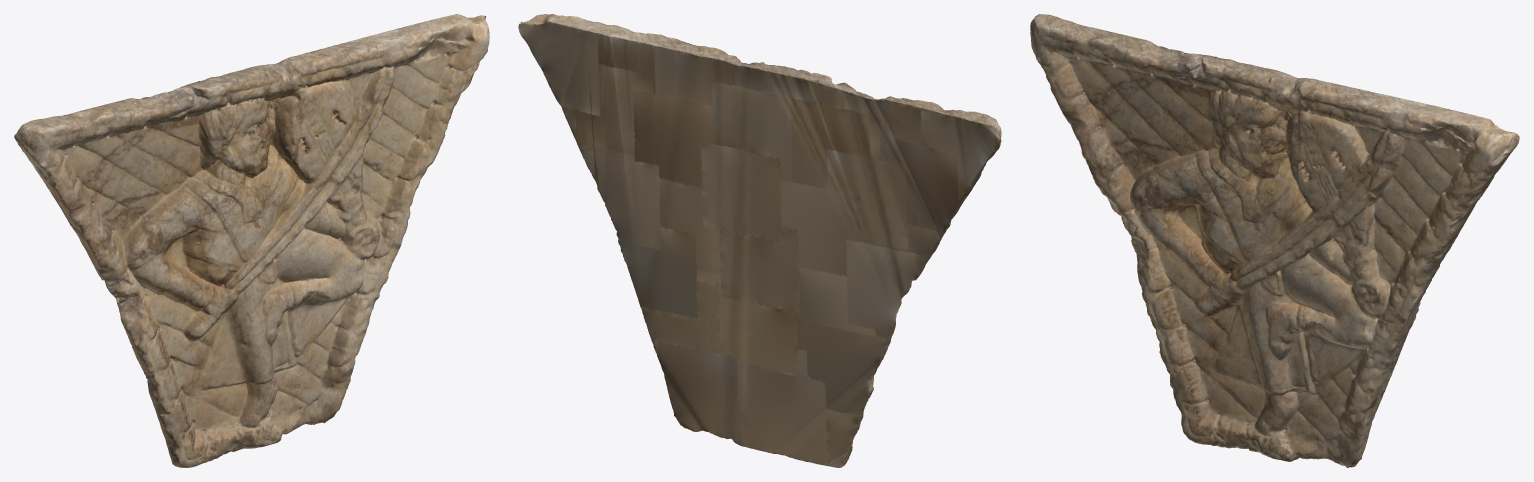
Rendered from preview.glb.
The picture shows the model from 3 angles, left to right: view 1: azimuth 30°, elevation 25°; view 2: azimuth 150°, elevation 25°; view 3: azimuth 330°, elevation 25°; orthographic projection.
Parts seen in each view (by area): view 1: ADVIMG_25_120_593_SpandrelwithAMusician_DEC5M_EDIT_MASTER_n3; view 2: ADVIMG_25_120_593_SpandrelwithAMusician_DEC5M_EDIT_MASTER_n3; view 3: ADVIMG_25_120_593_SpandrelwithAMusician_DEC5M_EDIT_MASTER_n3.
Boxes of the visible parts, left/top/right/bottom form: ADVIMG_25_120_593_SpandrelwithAMusician_DEC5M_EDIT_MASTER_n3: left=14, top=14, right=489, bottom=467; ADVIMG_25_120_593_SpandrelwithAMusician_DEC5M_EDIT_MASTER_n3: left=518, top=14, right=1001, bottom=467; ADVIMG_25_120_593_SpandrelwithAMusician_DEC5M_EDIT_MASTER_n3: left=1030, top=14, right=1519, bottom=467.
Bounding box in the file's own units: 0.4833 × 0.37 × 0.0305.
1 material, 1 textured.
